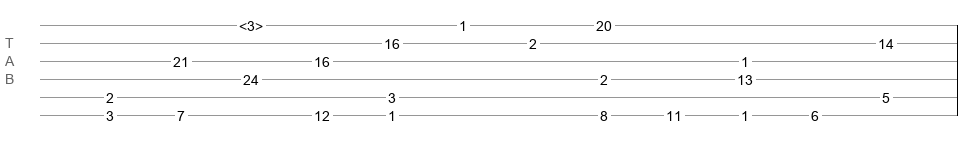1: (388, 108, 396, 118), (459, 18, 467, 28), (741, 54, 749, 64), (741, 108, 749, 118)
11: (666, 108, 682, 118)
12: (314, 108, 330, 118)
13: (737, 72, 753, 82)
14: (878, 36, 894, 46)
16: (314, 54, 330, 64), (384, 36, 400, 46)
2: (106, 90, 114, 100), (529, 36, 537, 46), (600, 72, 608, 82)
20: (596, 18, 612, 28)
21: (173, 54, 189, 64)
24: (243, 72, 259, 82)
3: (106, 108, 114, 118), (388, 90, 396, 100)
5: (882, 90, 890, 100)
6: (811, 108, 819, 118)
7: (177, 108, 185, 118)
8: (600, 108, 608, 118)
harmonic: (239, 18, 263, 28)
